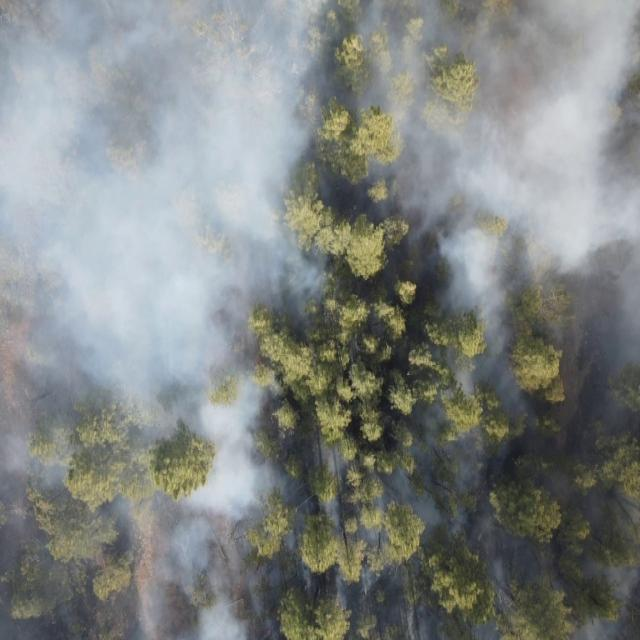smoke: (0, 0, 332, 348), (0, 346, 285, 640), (285, 433, 640, 638), (332, 0, 640, 220), (421, 317, 640, 435), (404, 219, 640, 316)
